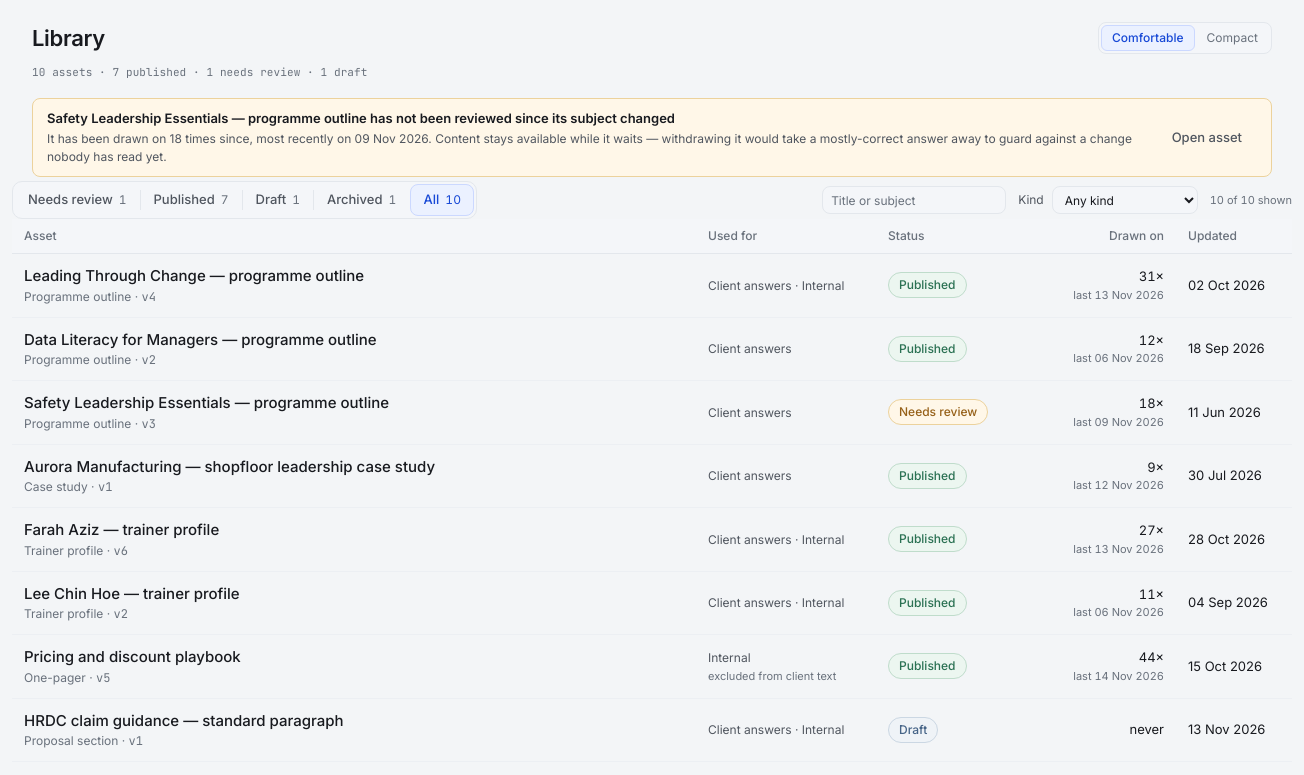
Test: Knowledge › Library › offers an empty state when nothing matches
Type "zzzzz" into the search field named "Search the library". click: (914, 200)
box: [822,186,1006,214]
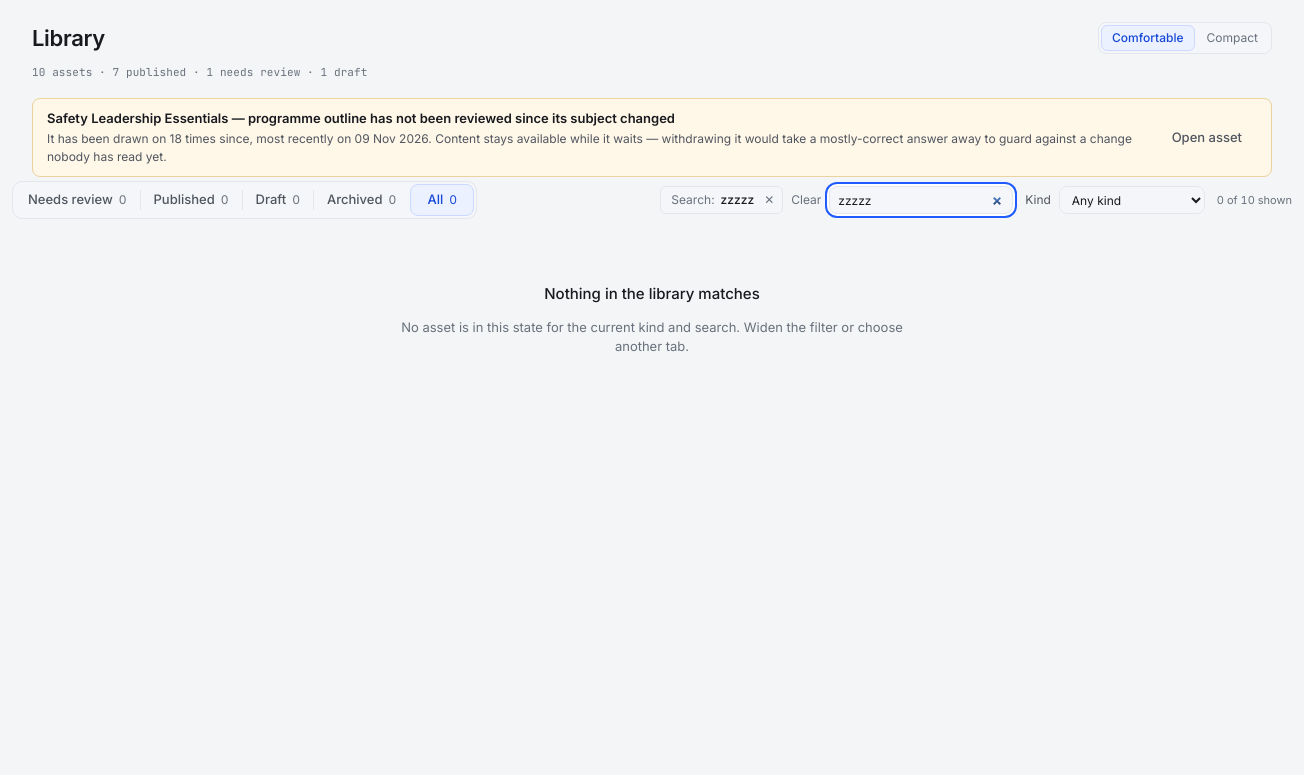
Result: the text "Nothing in the library matches" is shown at [544,283,760,306]
